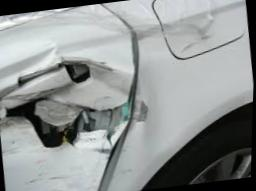Door: (0, 40, 146, 159)
